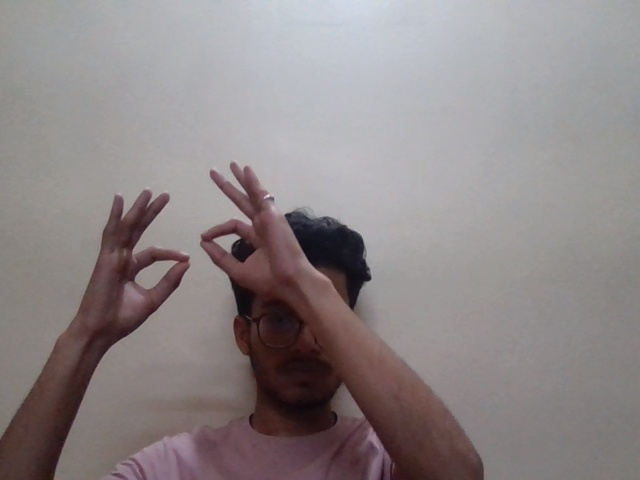nice: (61, 153, 322, 365)
